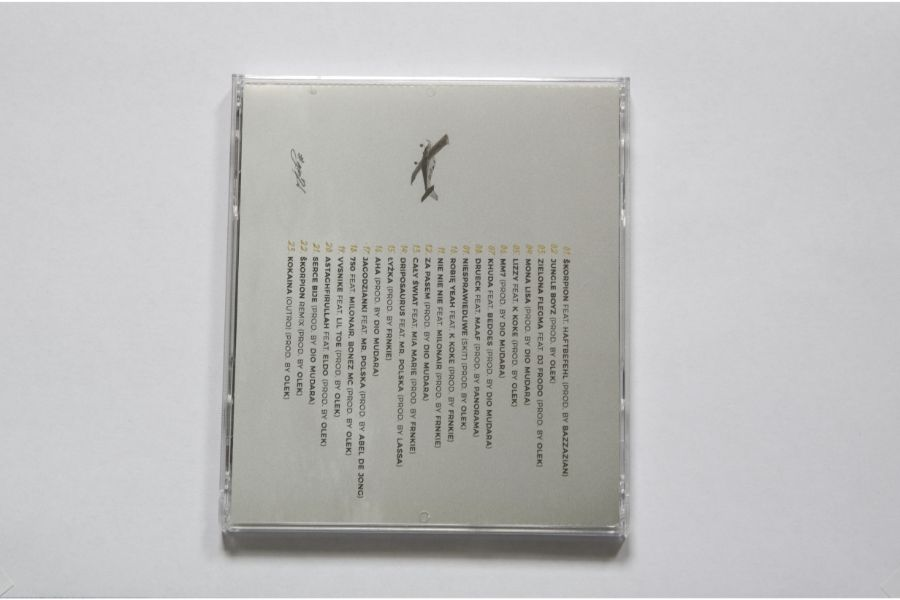album: (217, 73, 631, 543)
